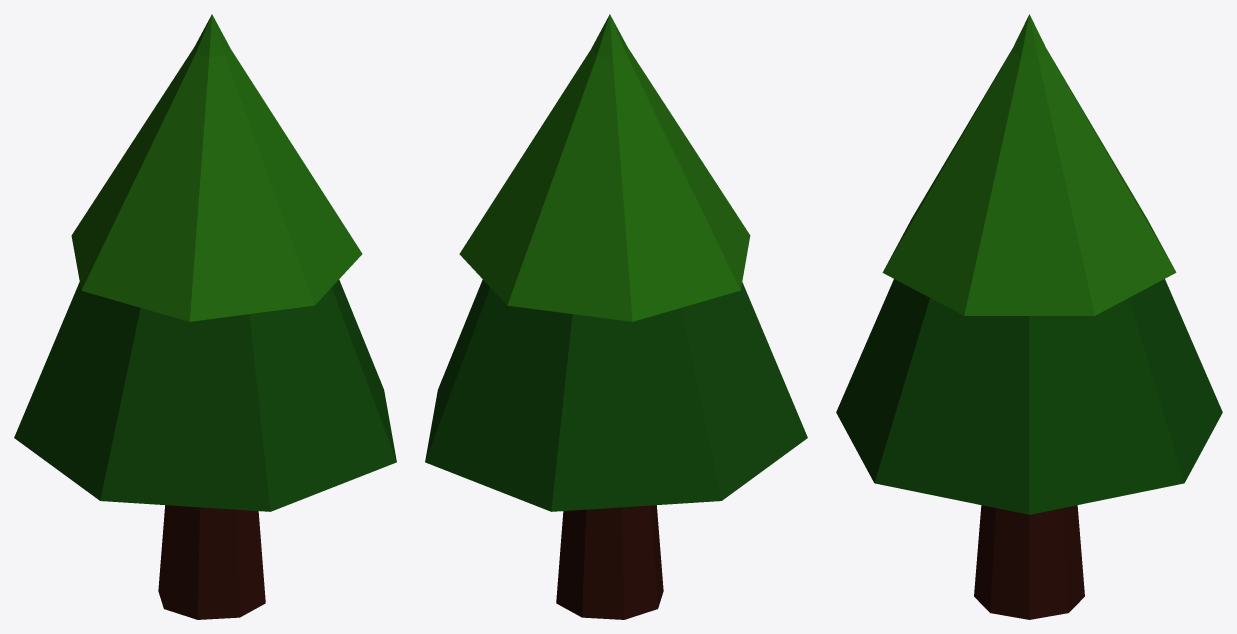
Rendered from Tree.fbx.
3 views of the same model, side by side, from view 1: azimuth 30°, elevation 25°; view 2: azimuth 150°, elevation 25°; view 3: azimuth 270°, elevation 25° (orthographic).
Visible parts, largest first — view 1: Tree; view 2: Tree; view 3: Tree.
Boxes of the visible parts, box(x1,y1,x2,y2) form: Tree: box(14, 14, 396, 619); Tree: box(425, 14, 807, 619); Tree: box(836, 14, 1222, 619).
Size of the model in its own units: 2.38 by 2.44 by 4.05.
